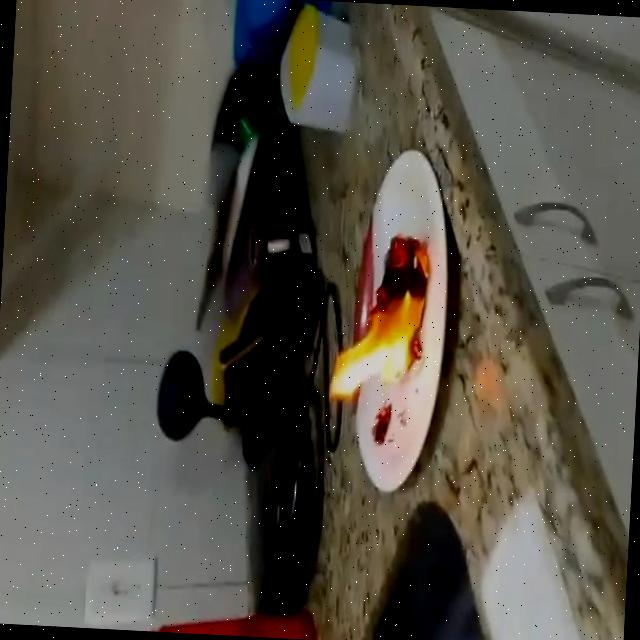fire: (328, 231, 432, 404)
